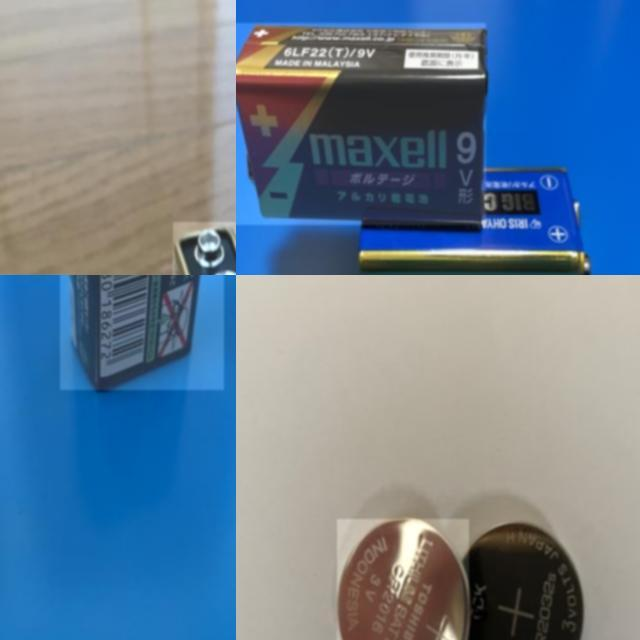9V: (236, 23, 486, 224), (357, 166, 592, 275), (60, 275, 224, 390)
